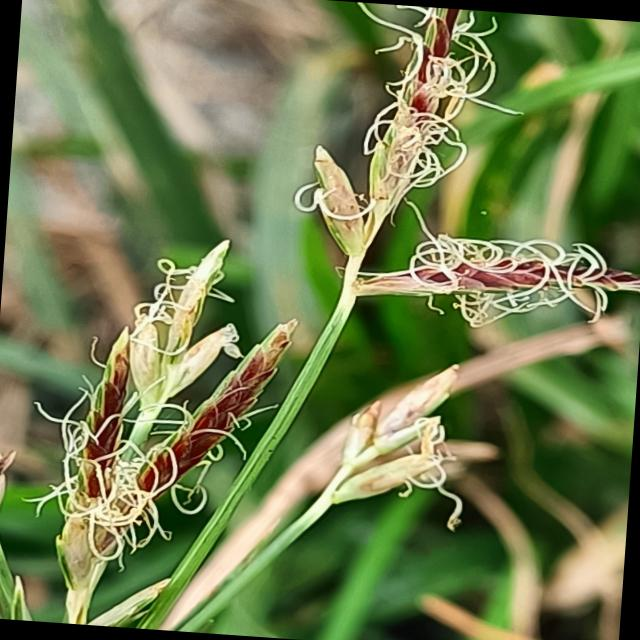cyperus: (7, 0, 640, 610), (286, 0, 640, 320), (11, 230, 320, 582)
